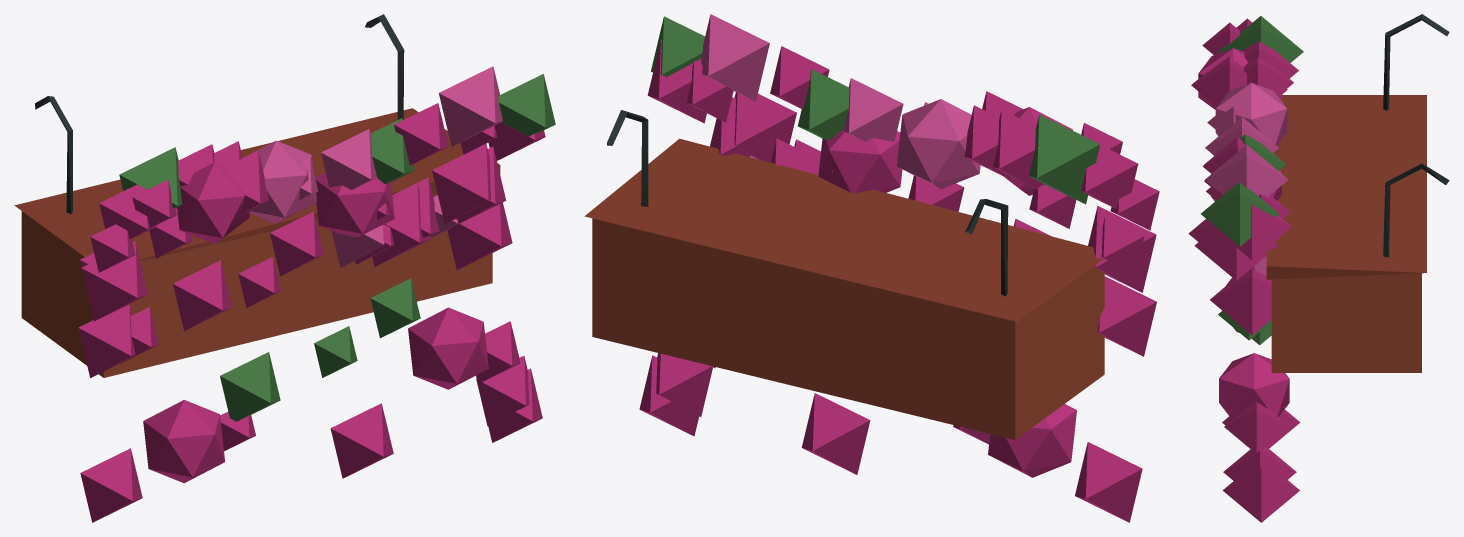
File: chau_ban_cong.glb
The picture shows the model from 3 angles, left to right: view 1: azimuth 30°, elevation 25°; view 2: azimuth 150°, elevation 25°; view 3: azimuth 270°, elevation 25°; orthographic projection. The views are drawn at different scales.
Visible parts, largest first — view 1: chau_ban_cong; view 2: chau_ban_cong; view 3: chau_ban_cong.
Part boxes in pixels (x1,y1,x2,y2): chau_ban_cong: [14, 14, 555, 522]; chau_ban_cong: [584, 14, 1159, 522]; chau_ban_cong: [1188, 14, 1449, 522].
Size of the model in its own units: 0.9945 by 0.7748 by 0.5212.
